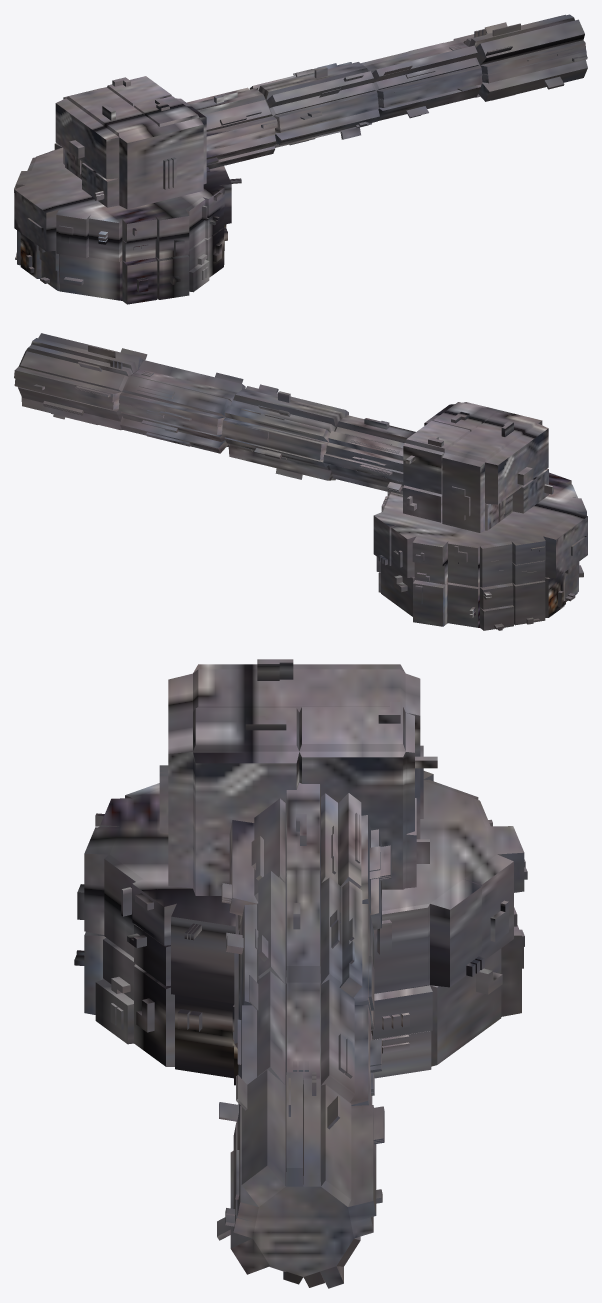
File: TurretGun.fbx
The picture shows the model from 3 angles, top to bottom: view 1: azimuth 30°, elevation 25°; view 2: azimuth 150°, elevation 25°; view 3: azimuth 270°, elevation 25°; orthographic projection. The views are drawn at different scales.
Visible parts, largest first — view 1: TurretGun; view 2: TurretGun; view 3: TurretGun.
Boxes of the visible parts, x1,y1,x2,y2 form: TurretGun: [14, 14, 587, 304]; TurretGun: [14, 333, 587, 630]; TurretGun: [74, 659, 527, 1288].
Bounding box in the file's own units: 441 × 125 × 159.
